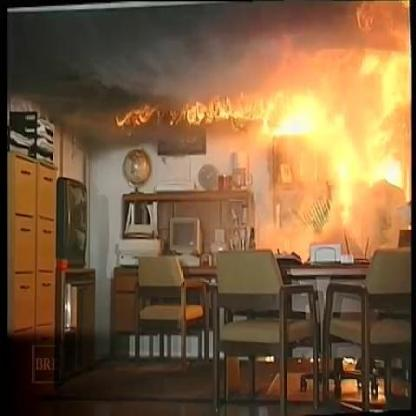Fire: (211, 12, 410, 242)
